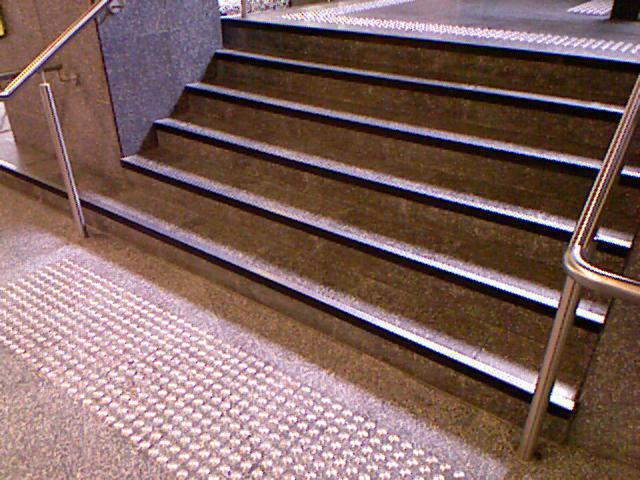Escaleras: (73, 21, 612, 445)
